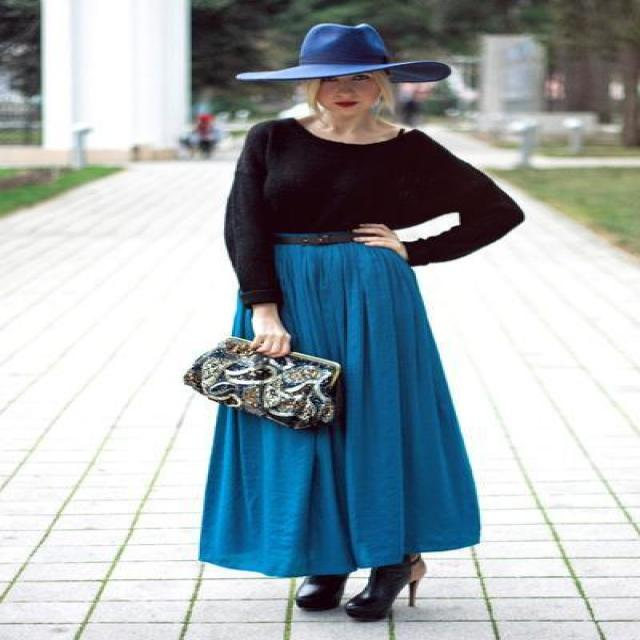bag: (184, 336, 347, 441)
hat: (250, 23, 440, 88)
shirt: (224, 118, 523, 319)
shoe: (294, 554, 416, 624)
skirt: (198, 243, 478, 584)
